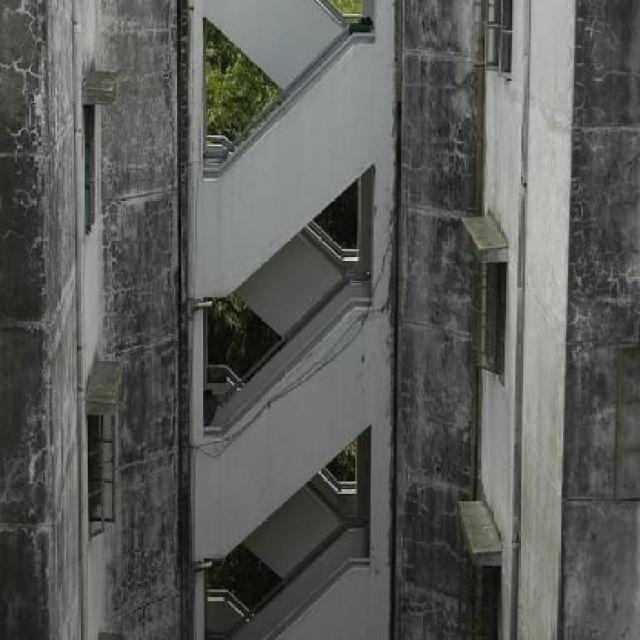stair: (183, 0, 398, 638)
